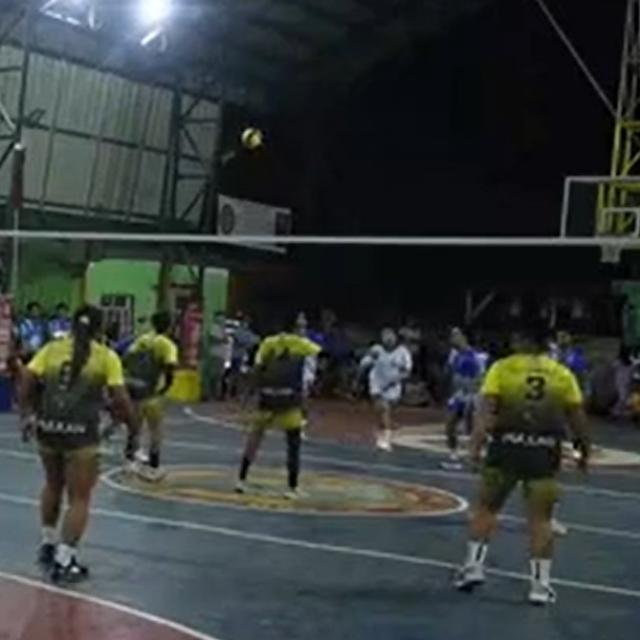volleyball: (242, 129, 262, 147)
